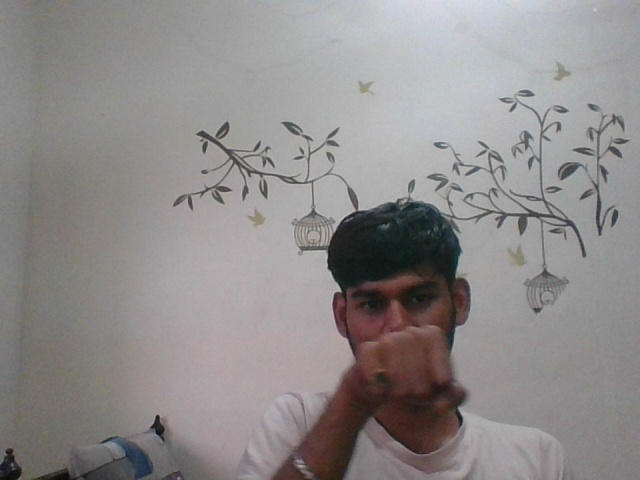Thank You: (348, 321, 488, 417)
